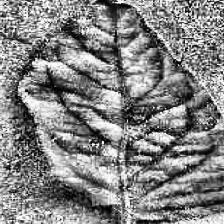leaf mold: (21, 0, 224, 217)
